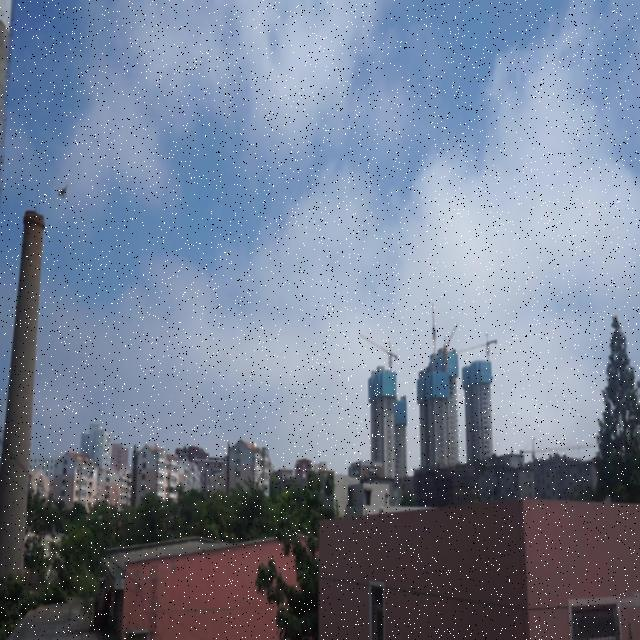UAV: (57, 183, 69, 200)
